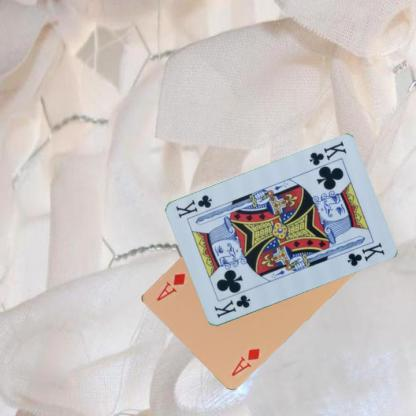Ad: (228, 345, 261, 377)
Kc: (306, 139, 348, 168), (211, 292, 251, 320)
